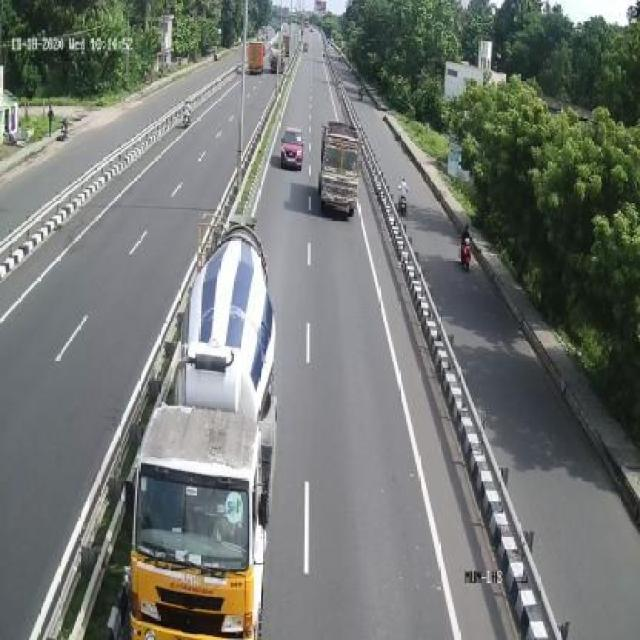car: (280, 125, 308, 172)
